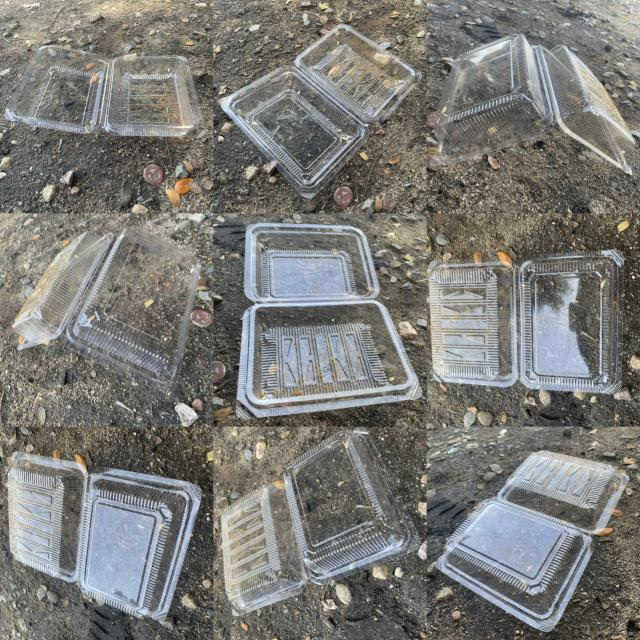Single-Use-Plastic: (221, 429, 419, 615), (236, 222, 421, 418), (220, 25, 420, 199), (438, 451, 629, 631), (8, 452, 200, 619), (12, 228, 200, 391), (426, 35, 635, 174), (429, 250, 624, 393), (5, 45, 205, 137)
